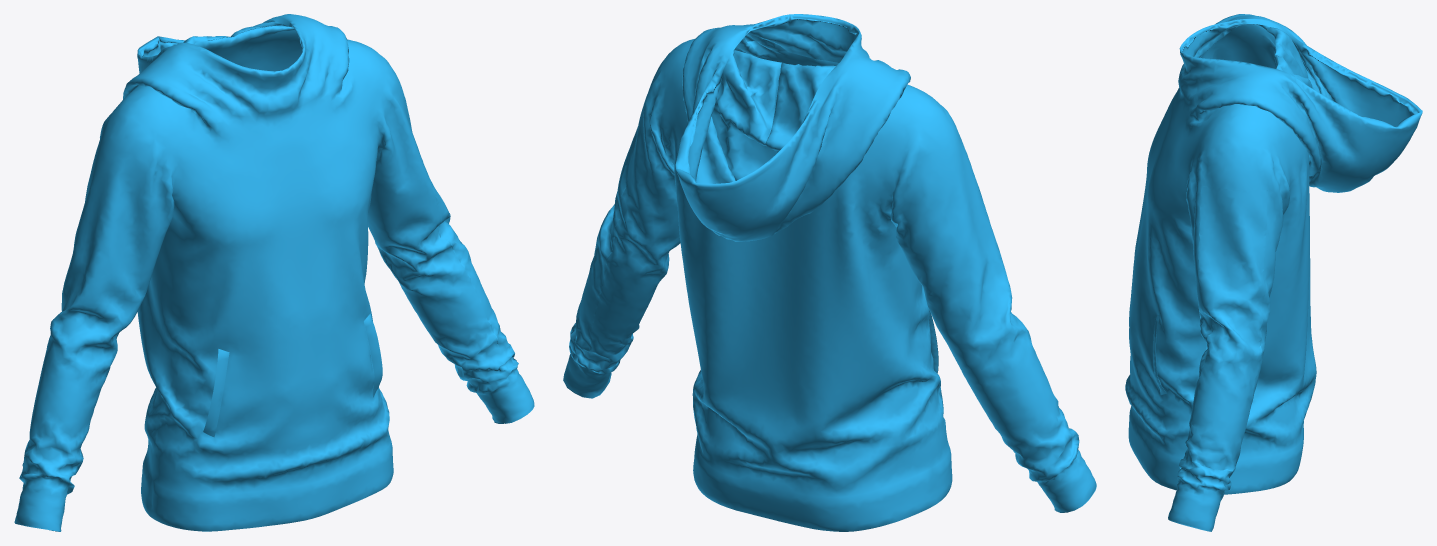
File: Hoodie2-1.glb
3 views of the same model, side by side, from view 1: azimuth 30°, elevation 25°; view 2: azimuth 150°, elevation 25°; view 3: azimuth 270°, elevation 25° (orthographic). The views are drawn at different scales.
Parts seen in each view (by area): view 1: Hoodie; view 2: Hoodie; view 3: Hoodie.
Part boxes in pixels (x1=…): Hoodie: x1=14, y1=14, x2=534, y2=531; Hoodie: x1=563, y1=14, x2=1096, y2=531; Hoodie: x1=1125, y1=14, x2=1422, y2=531.
Bounding box in the file's own units: 0.8364 × 0.7072 × 0.4617.
